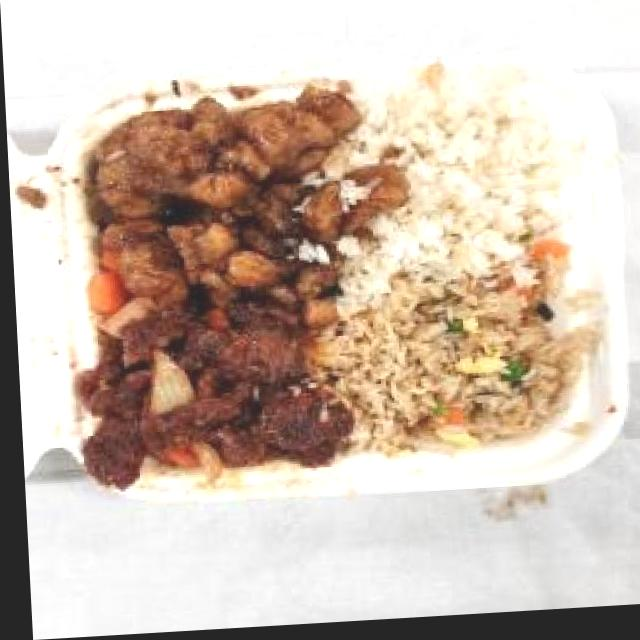Beijing Beef: (63, 303, 343, 491)
Fried Rice: (325, 273, 602, 463)
The Original Orange Chicken: (69, 84, 361, 312)
White Steamed Rice: (325, 91, 586, 306)
